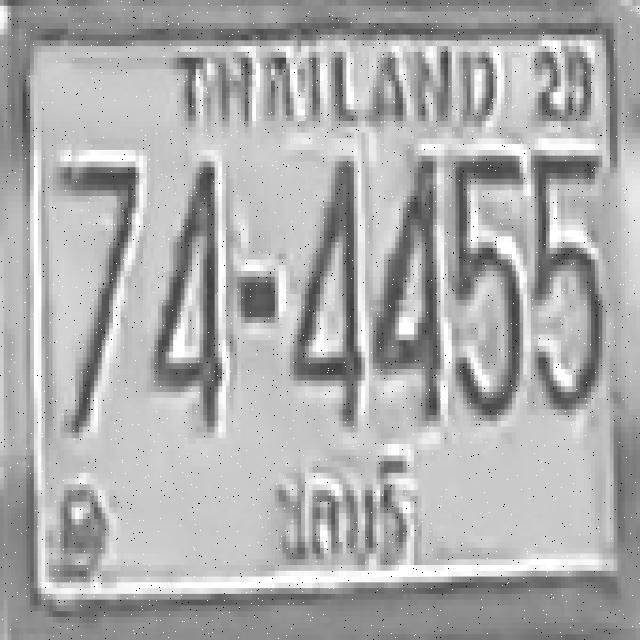4: (146, 156, 222, 427), (288, 153, 360, 424), (368, 153, 441, 418)
5: (526, 150, 602, 410), (449, 150, 522, 415)
7: (59, 156, 138, 432)
Chonburi: (260, 442, 436, 586)
